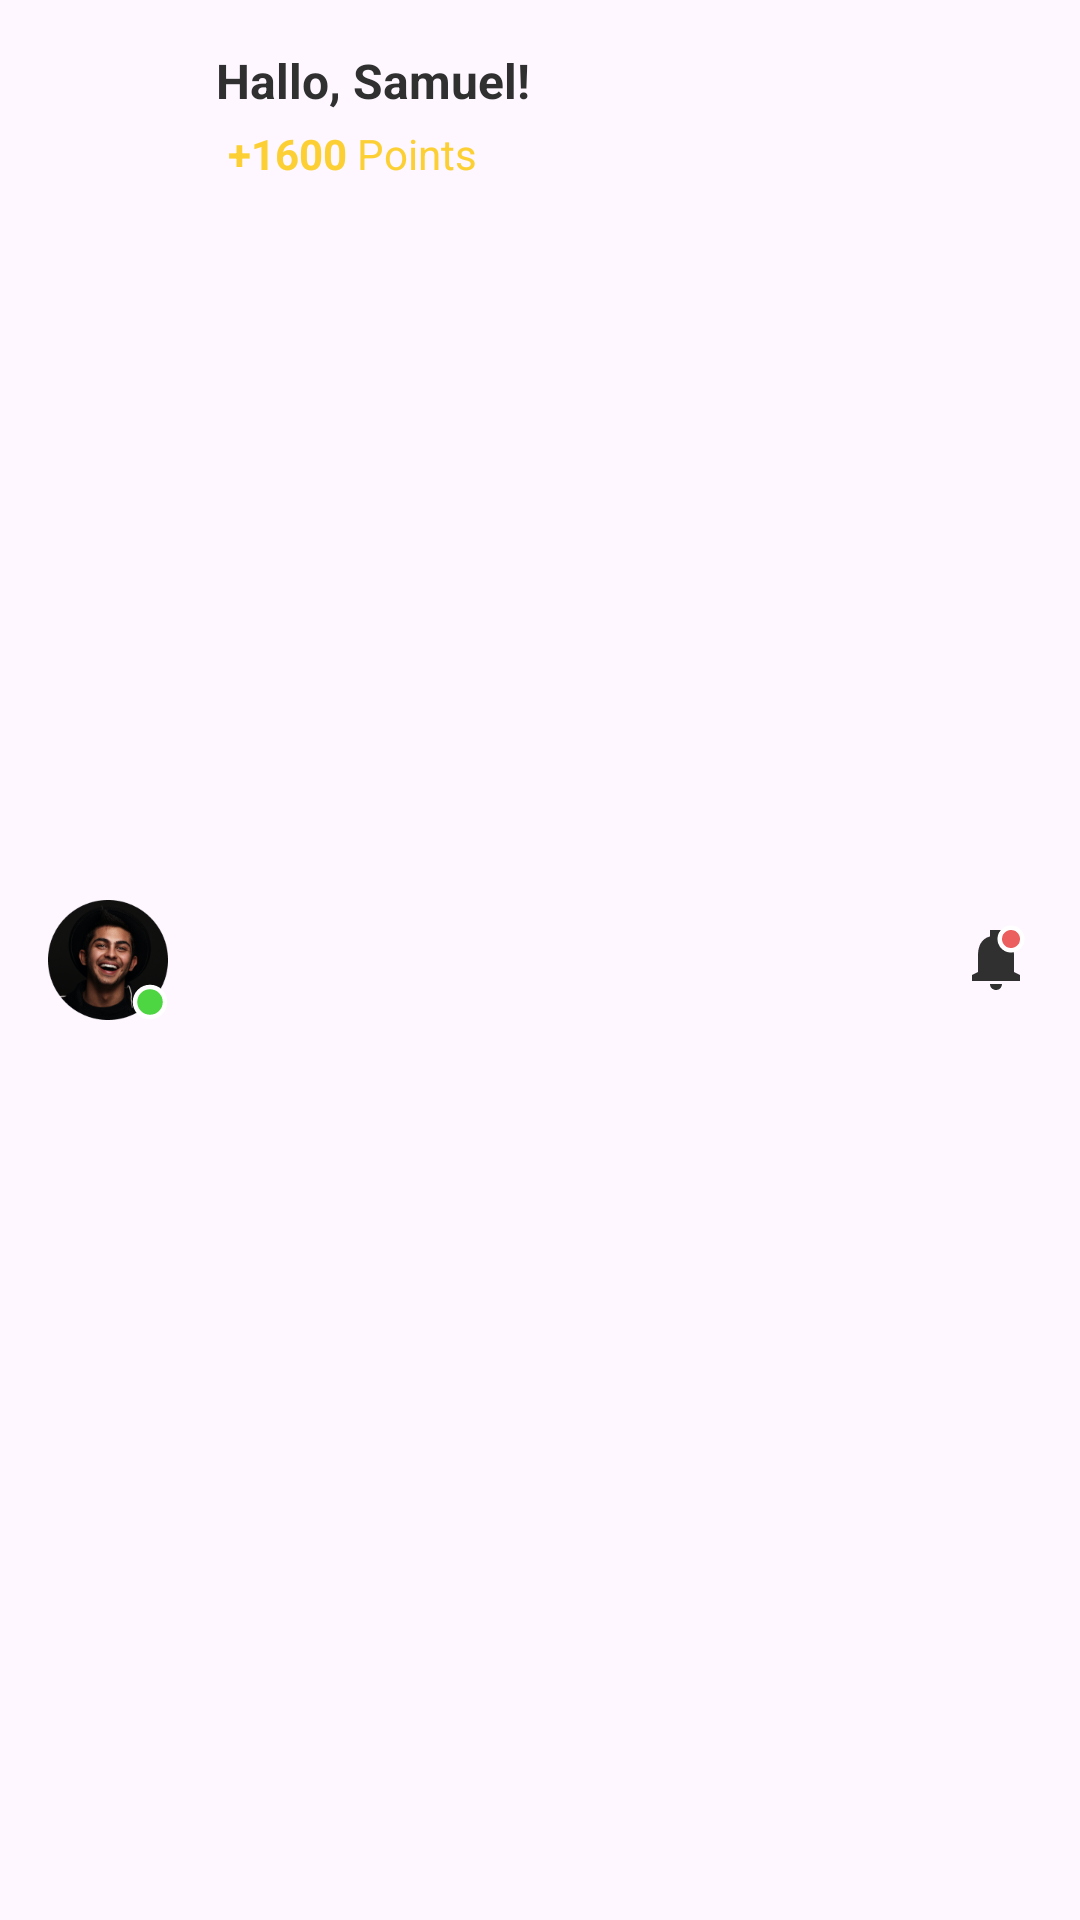

Icons on this 1080 x 1920 Android screen, each with the point to tap as (x,y):
notifications: (996,960)
online: (150,1002)
